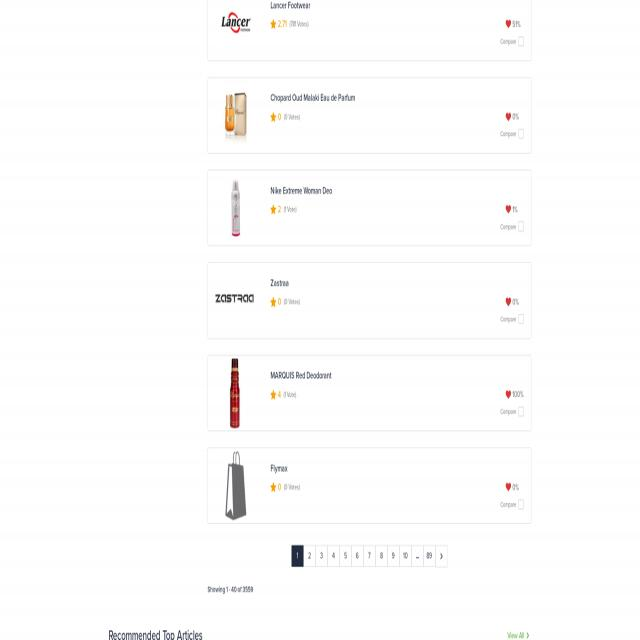button: (208, 448, 532, 526), (208, 355, 531, 433), (208, 262, 531, 339), (207, 170, 532, 246), (208, 79, 532, 153), (207, 0, 531, 62), (435, 546, 448, 568), (339, 546, 352, 567), (304, 546, 316, 567), (316, 546, 328, 567), (328, 546, 340, 567), (351, 546, 363, 567), (364, 546, 376, 567), (376, 545, 388, 566), (388, 546, 400, 567), (400, 546, 412, 567), (424, 546, 436, 567), (505, 112, 511, 122), (505, 204, 511, 214), (505, 20, 511, 30), (505, 298, 511, 308), (505, 390, 511, 400), (505, 482, 511, 492), (271, 112, 276, 122), (271, 204, 276, 214), (271, 20, 276, 30), (271, 298, 276, 308), (271, 390, 276, 400), (271, 482, 276, 492)
field: (518, 221, 524, 232), (518, 407, 524, 418), (518, 499, 524, 510), (518, 37, 524, 47), (518, 314, 524, 324), (519, 128, 524, 138)
